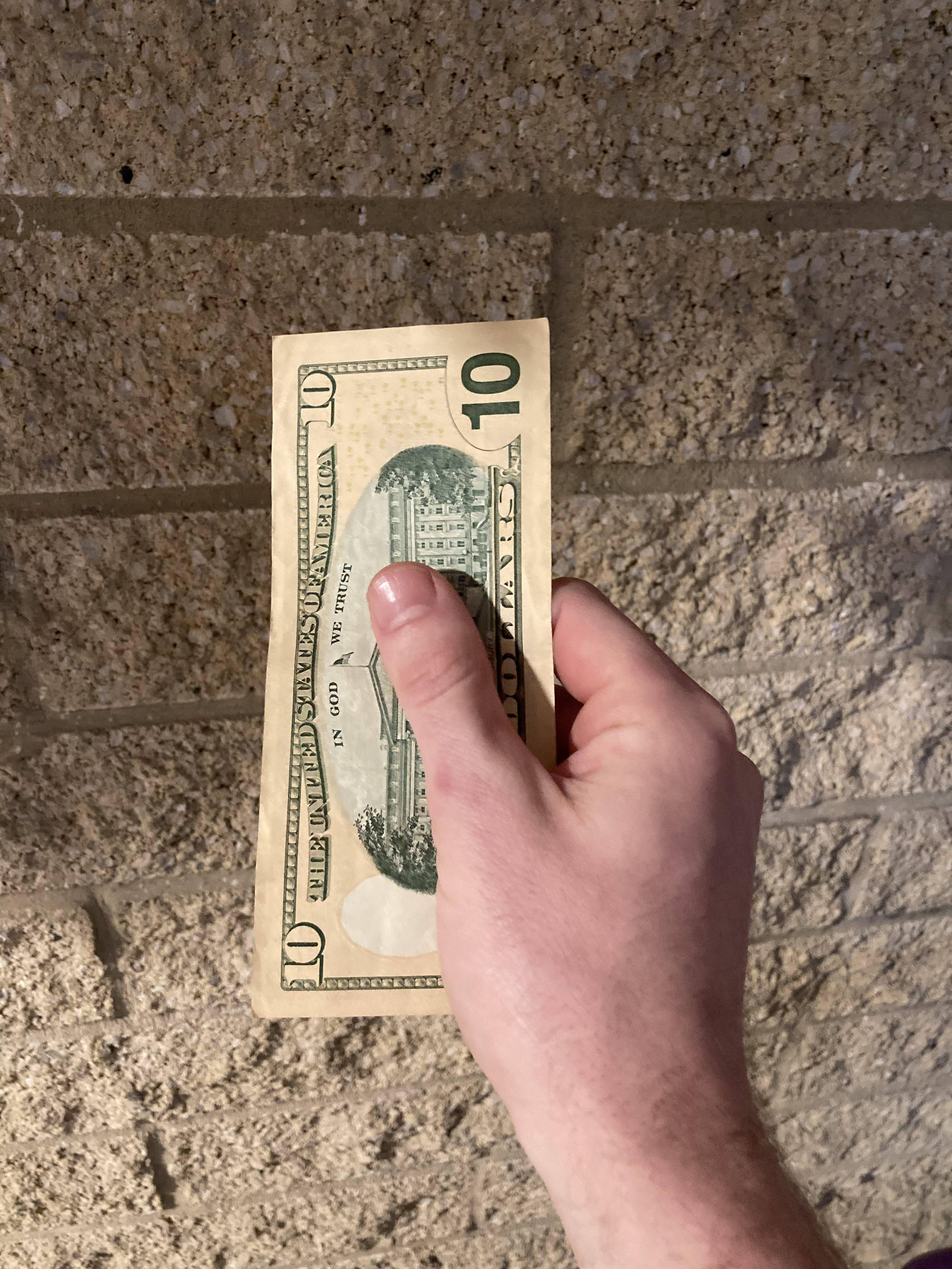ten-back: (250, 314, 559, 1024)
